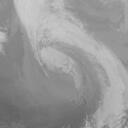cyclone: (30, 31, 115, 103)
